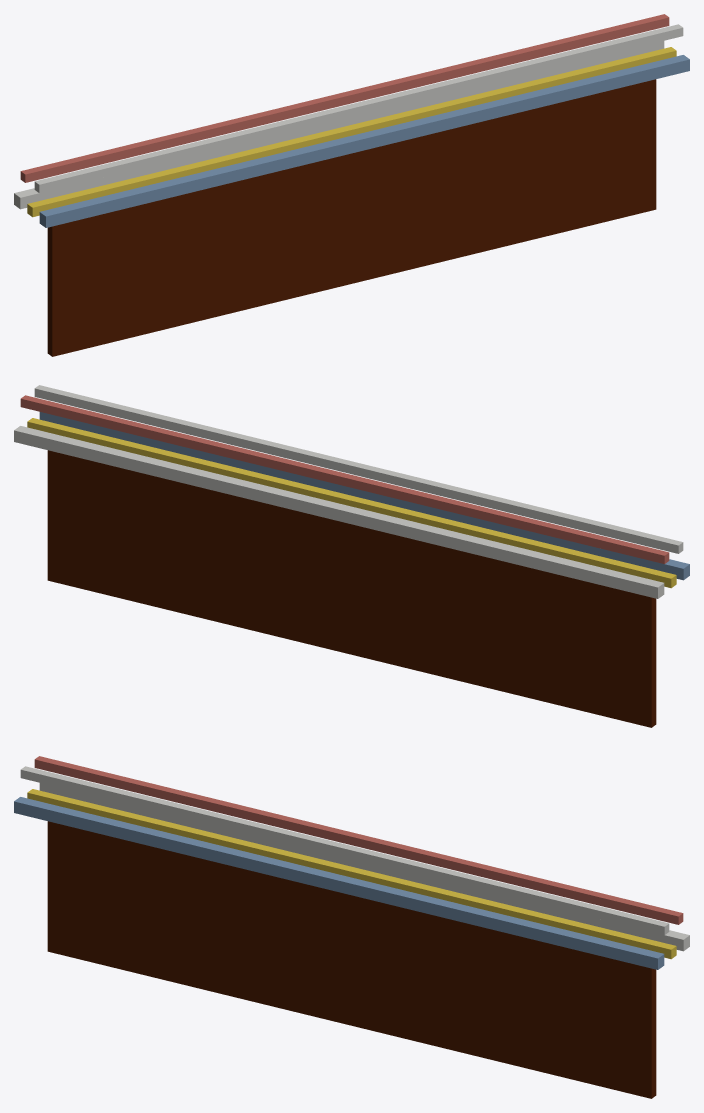
File: ew-pipe-rack.tone-v1.lod2.glb
3 views of the same model, one above another, from view 1: azimuth 30°, elevation 25°; view 2: azimuth 150°, elevation 25°; view 3: azimuth 330°, elevation 25° (orthographic).
Visible parts, largest first — view 1: ew-pipe-rack; view 2: ew-pipe-rack; view 3: ew-pipe-rack.
Part boxes in pixels (left/top/right/bottom): ew-pipe-rack: left=14, top=14, right=689, bottom=356; ew-pipe-rack: left=14, top=385, right=689, bottom=727; ew-pipe-rack: left=14, top=756, right=689, bottom=1098.
Bounding box in the file's own units: 32 × 8.65 × 2.75.
